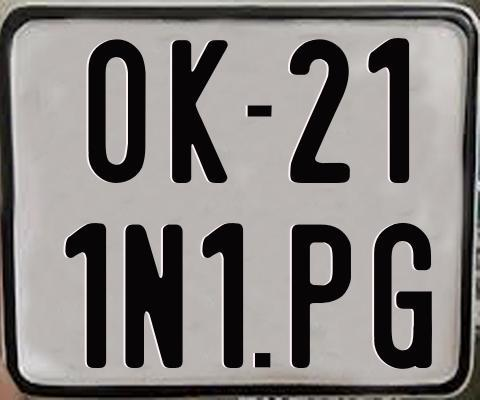0: (88, 39, 149, 183)
1: (202, 222, 245, 372), (366, 38, 409, 184), (65, 220, 106, 366)
2: (287, 37, 353, 181)
G: (373, 221, 436, 368)
K: (172, 37, 234, 184)
N: (124, 221, 188, 367)
P: (290, 224, 355, 372)
